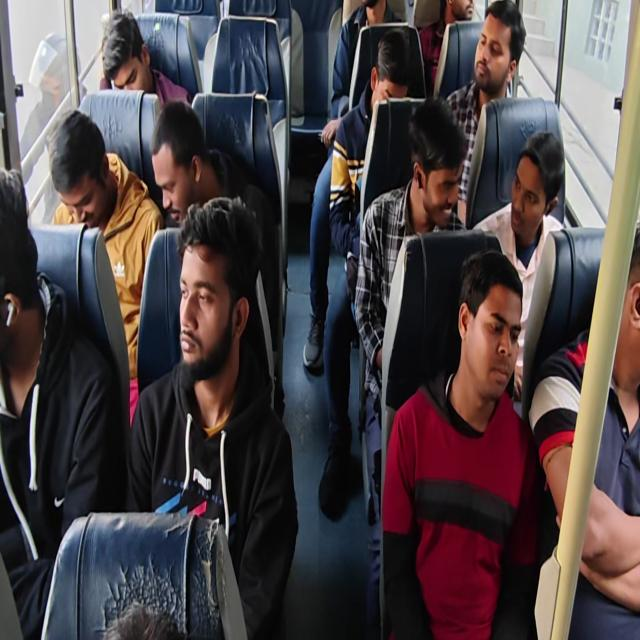person: (52, 105, 109, 239), (465, 290, 521, 400), (178, 238, 225, 369), (408, 125, 465, 230), (0, 175, 32, 358), (508, 125, 553, 246), (605, 236, 640, 386), (152, 130, 200, 224), (104, 30, 150, 103), (366, 45, 412, 112), (472, 17, 511, 91), (444, 0, 482, 34), (356, 0, 394, 19)
